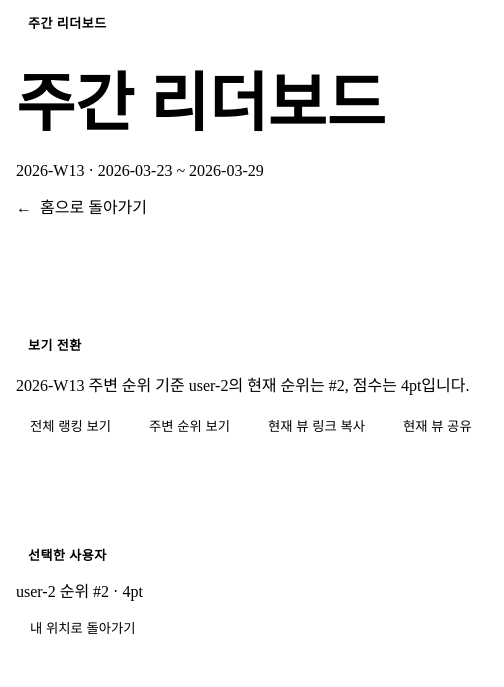
Test: leaderboard ui › shares the current focused leaderboard view with the web share api
Click the button "현재 뷰 공유": point(437, 425) [389,408,486,443]
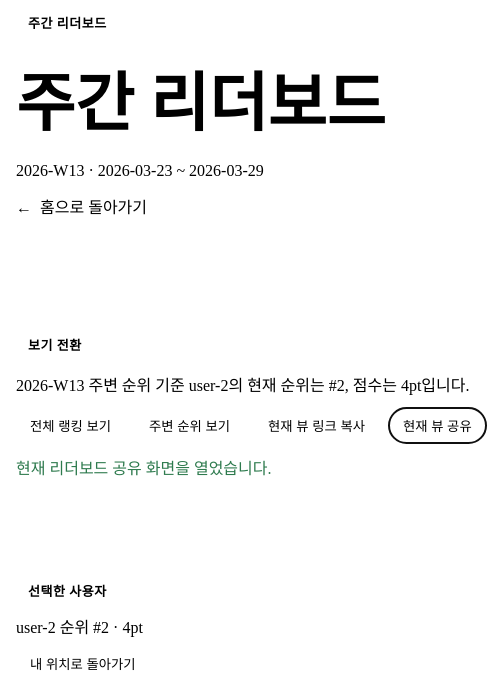
Now the text "현재 리더보드 공유 화면을 열었습니다." is shown, box [16,460,272,477]
